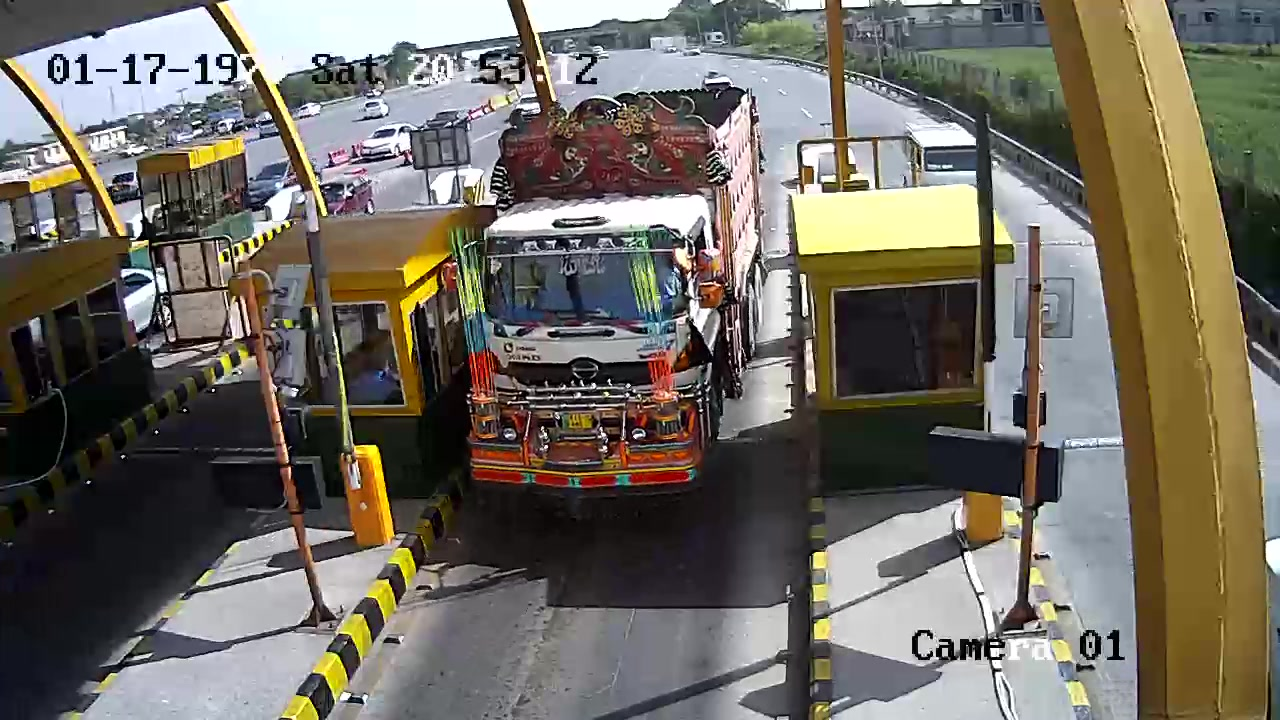F5: (448, 73, 773, 499)
